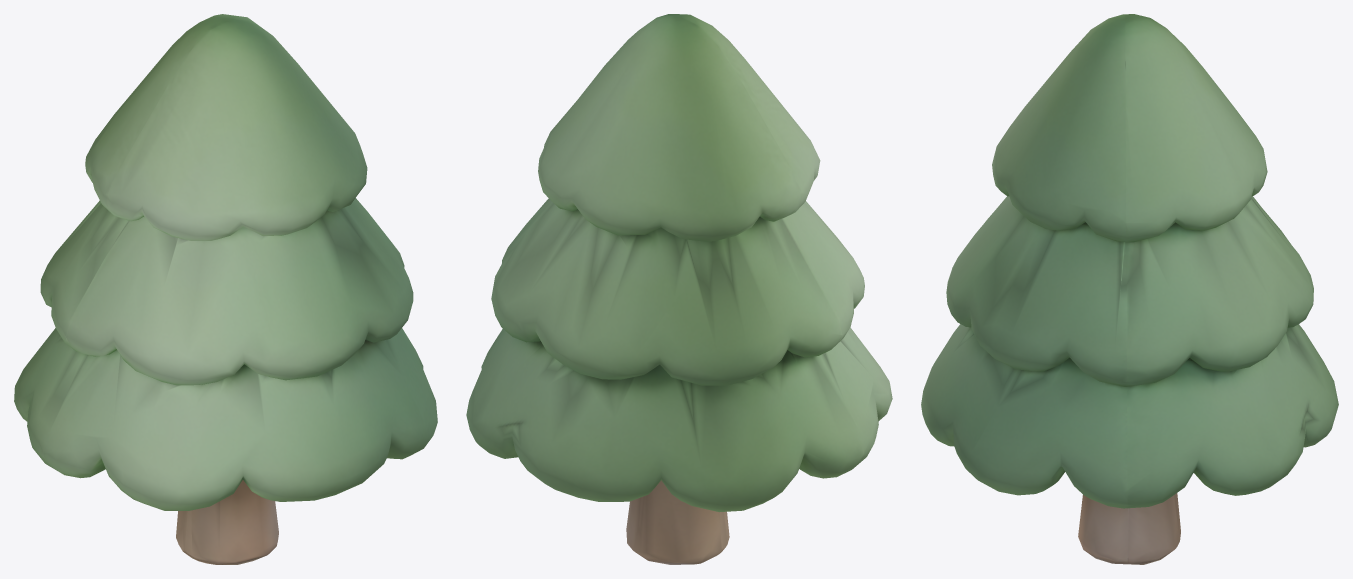
Rendered from sapin.glb.
3 views of the same model, side by side, from view 1: azimuth 30°, elevation 25°; view 2: azimuth 150°, elevation 25°; view 3: azimuth 270°, elevation 25° (orthographic).
Visible parts, largest first — view 1: sapin_512_Baked; view 2: sapin_512_Baked; view 3: sapin_512_Baked.
Part boxes in pixels (left/top/right/bottom): sapin_512_Baked: left=14, top=14, right=437, bottom=564; sapin_512_Baked: left=466, top=14, right=892, bottom=564; sapin_512_Baked: left=921, top=14, right=1338, bottom=564.
Size of the model in its own units: 0.7218 by 0.9992 by 0.7145.
Materials: 1 (1 with a texture image).
